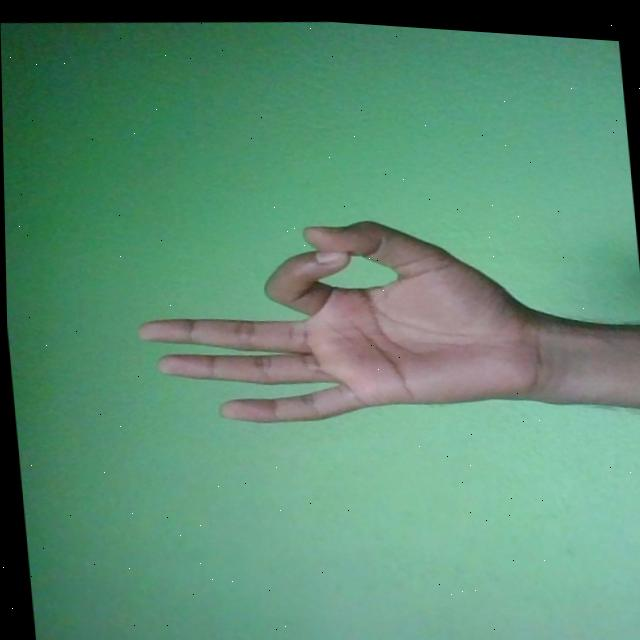Ok: (123, 189, 556, 443)
